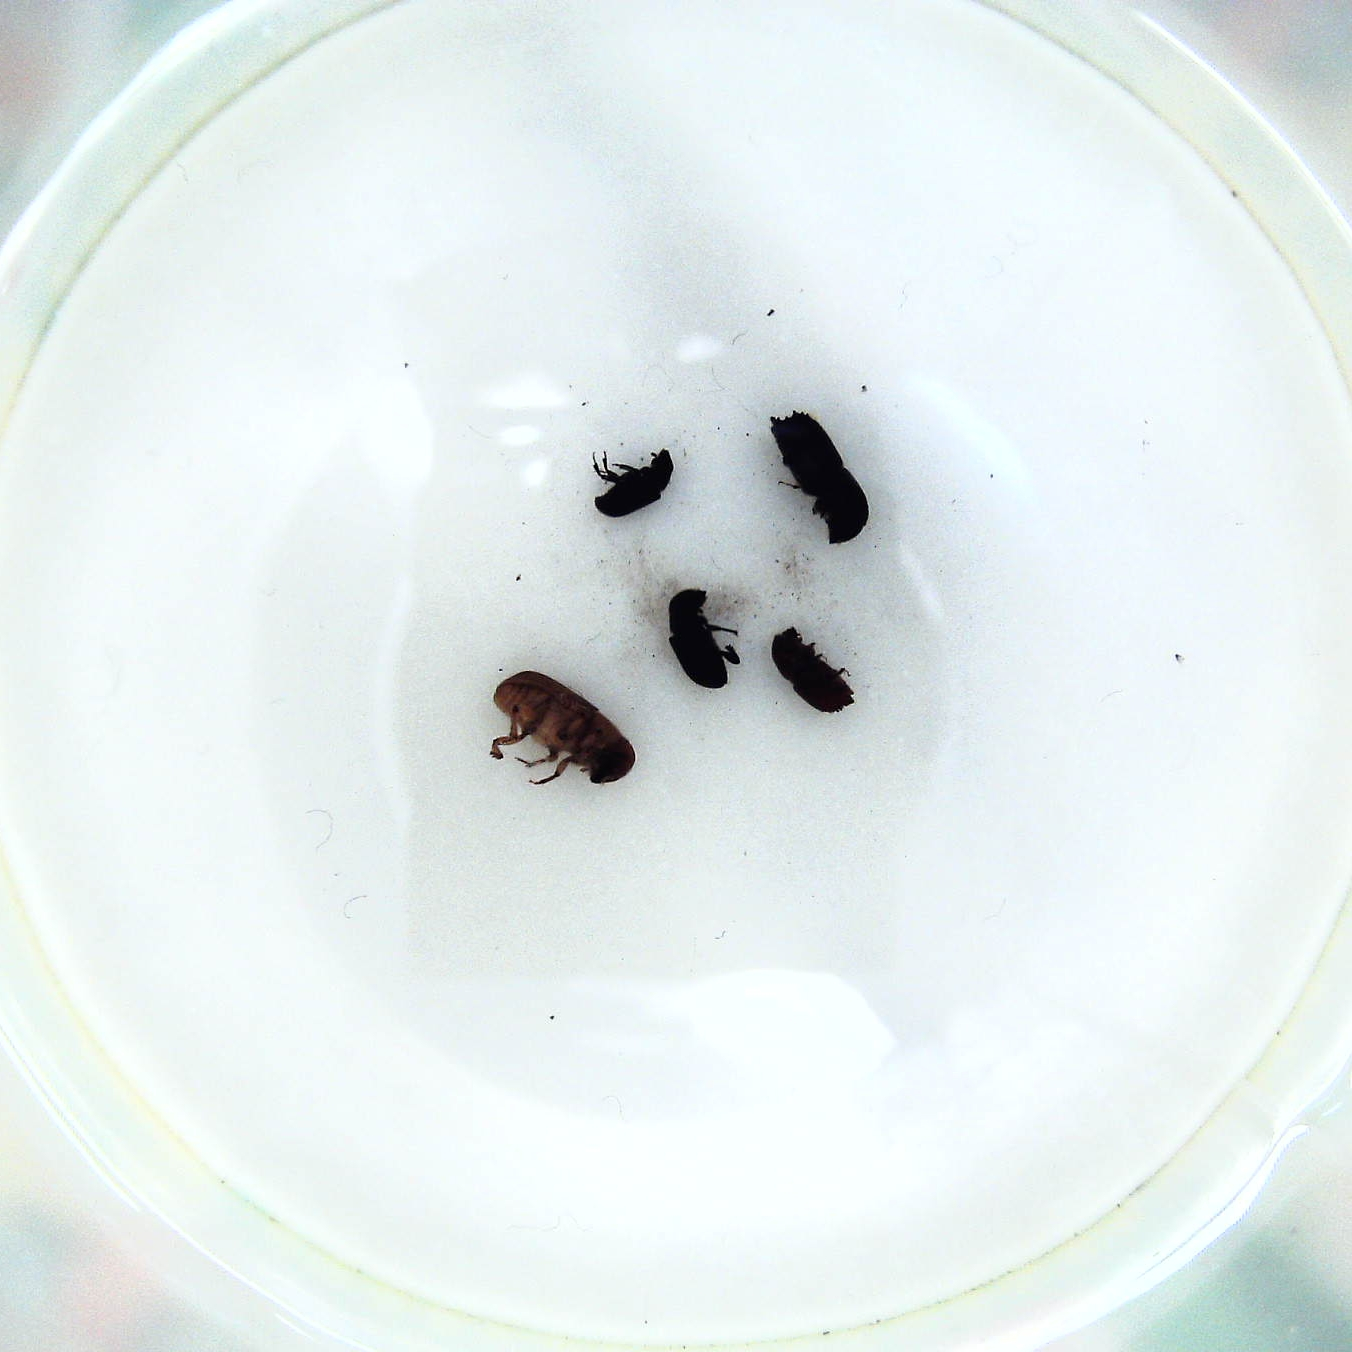Boerner: (765, 407, 877, 548)
Leconte: (480, 665, 638, 792)
armandi: (664, 584, 747, 692)
coleoptera: (589, 448, 685, 524)
linnaeus: (768, 624, 860, 719)
